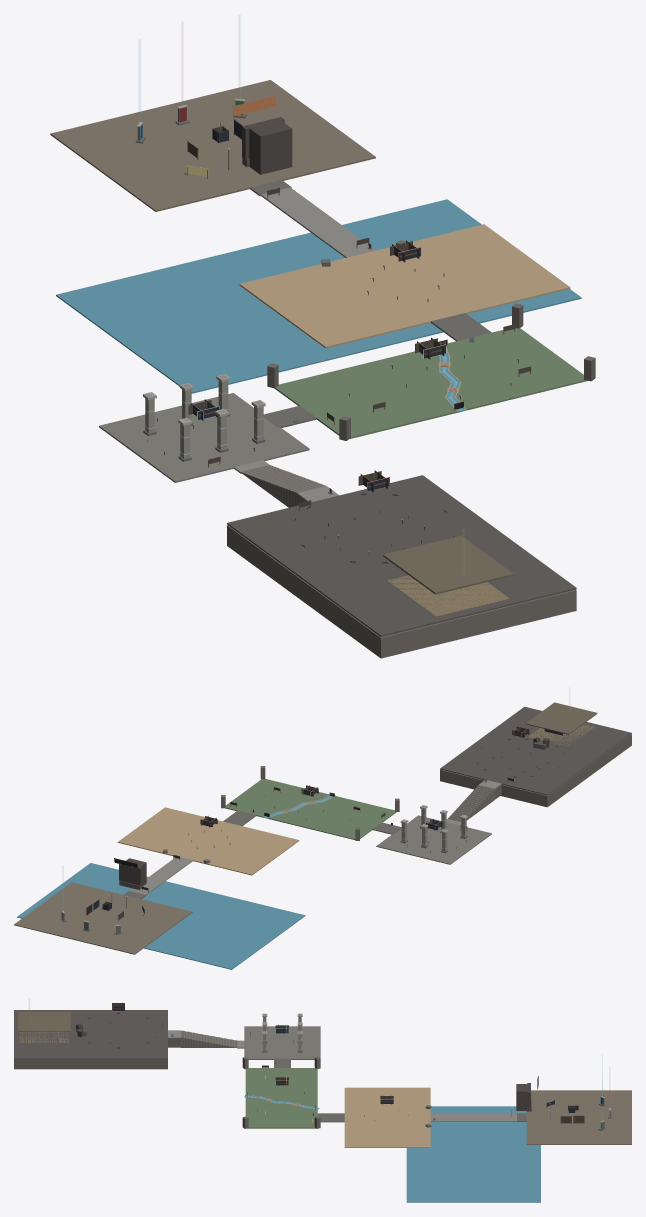
File: emberhold_static_blocks_v63.glb
The picture shows the model from 3 angles, top to bottom: view 1: azimuth 30°, elevation 25°; view 2: azimuth 150°, elevation 25°; view 3: azimuth 270°, elevation 25°; orthographic projection. The views are drawn at different scales.
Parts seen in each view (by area): view 1: emberhold_static_blocks; view 2: emberhold_static_blocks; view 3: emberhold_static_blocks.
Part boxes in pixels (box(x1,y1,x2,y2)): emberhold_static_blocks: box(50, 15, 595, 658); emberhold_static_blocks: box(14, 687, 631, 969); emberhold_static_blocks: box(14, 999, 631, 1202).
Bounding box in the file's own units: 485 × 138 × 875.
